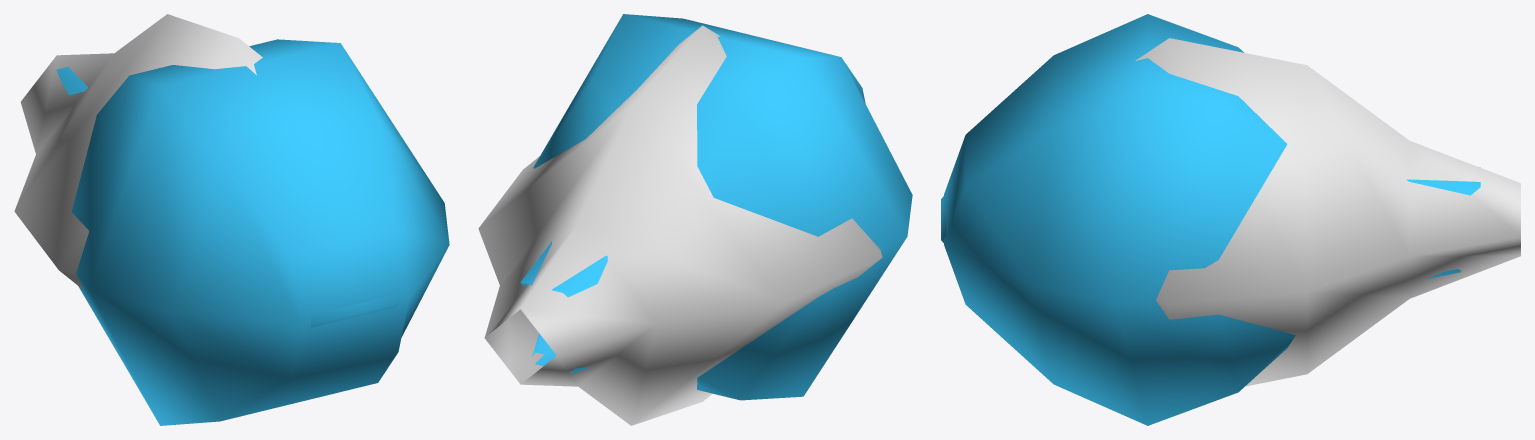
Rendered from proyectiAlto.fbx.
The picture shows the model from 3 angles, left to right: view 1: azimuth 30°, elevation 25°; view 2: azimuth 150°, elevation 25°; view 3: azimuth 270°, elevation 25°; orthographic projection. The views are drawn at different scales.
Visible parts, largest first — view 1: proyectilAlto; view 2: proyectilAlto; view 3: proyectilAlto.
Boxes of the visible parts, x1=… form: proyectilAlto: x1=14, y1=14, x2=449, y2=425; proyectilAlto: x1=478, y1=14, x2=912, y2=425; proyectilAlto: x1=941, y1=14, x2=1520, y2=425.
Size of the model in its own units: 68.62 by 68.62 by 99.21.
